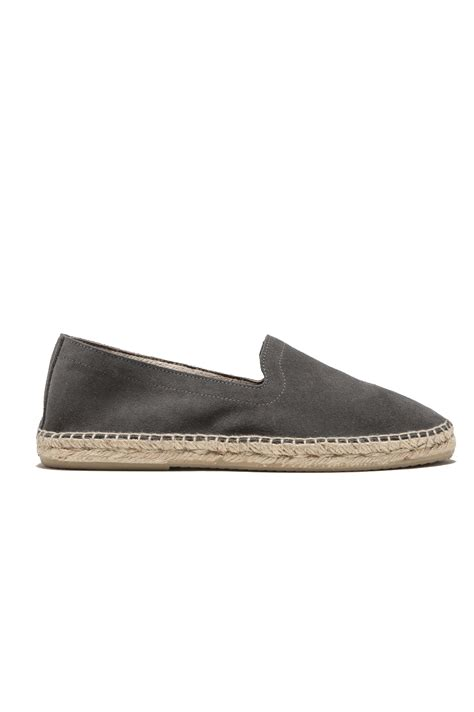gamuza: (37, 332, 451, 438)
